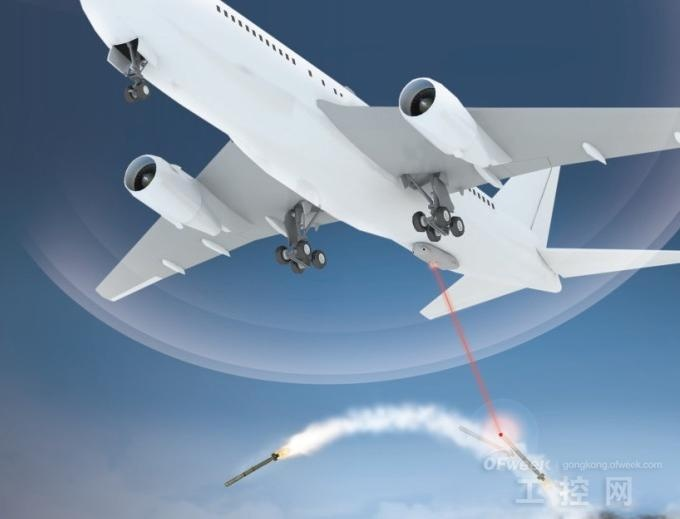airplane: (80, 1, 680, 312)
